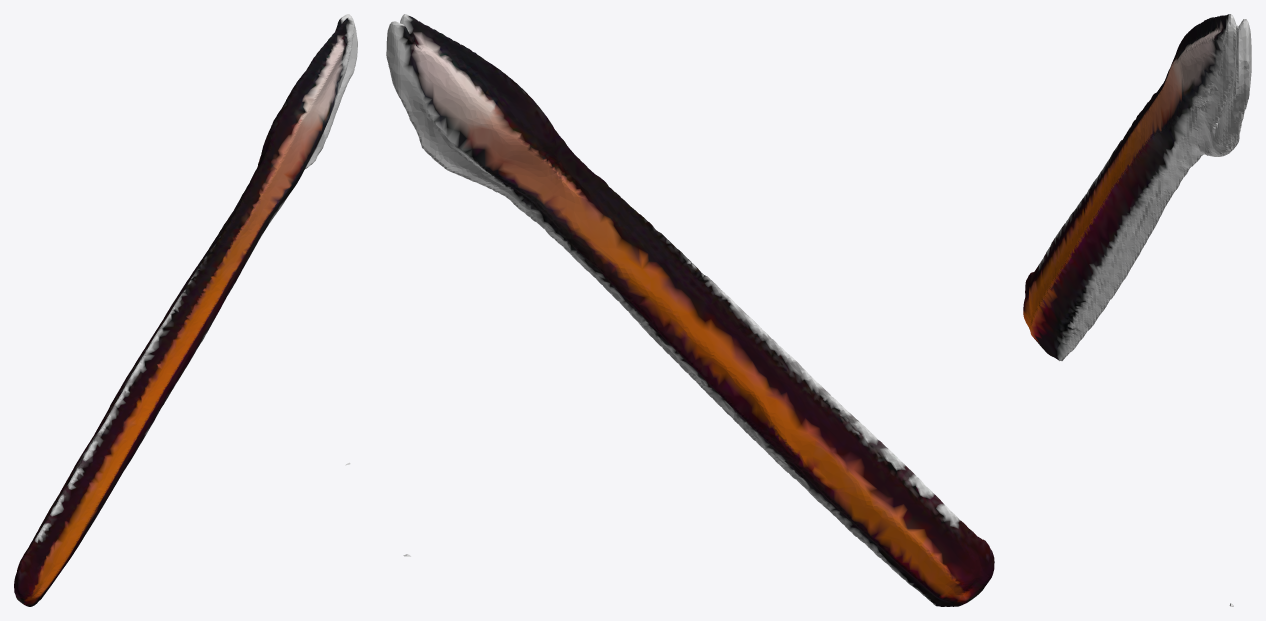
The model's file is spear.glb.
3 renders of one model, left to right at view 1: azimuth 30°, elevation 25°; view 2: azimuth 150°, elevation 25°; view 3: azimuth 270°, elevation 25°, orthographic. The views are drawn at different scales.
Parts seen in each view (by area): view 1: geometry_0; view 2: geometry_0; view 3: geometry_0.
Part boxes in pixels (box(x1,y1,x2,y2)): geometry_0: box(14, 14, 357, 606); geometry_0: box(386, 14, 994, 606); geometry_0: box(1023, 14, 1251, 606).
Bounding box in the file's own units: 0.6875 × 0.6989 × 0.2445.
